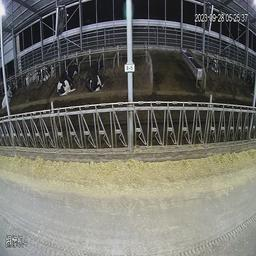cow: (57, 62, 79, 97), (85, 59, 105, 95), (2, 86, 14, 111), (39, 64, 54, 82), (25, 69, 38, 87), (208, 56, 219, 75)
